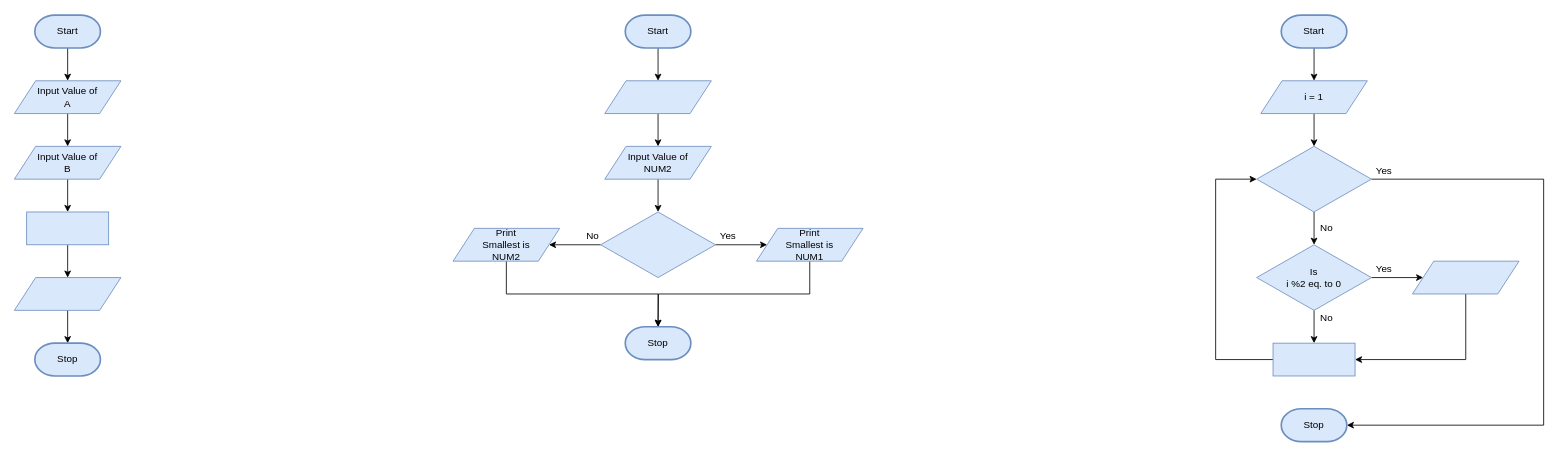
This 1565x456 diagram has some shape labels left out. The shapes that lost their labels are listed below. From the top down, each one's box as (x1, y1, x2, y2) in pixels, then its label:
(604, 80, 711, 114): Input Value of NUM1
(1256, 146, 1371, 212): Is i > 50
(26, 211, 109, 245): SUM = A + B
(600, 211, 715, 278): Is NUM1 < NUM2
(14, 277, 121, 310): Print SUM
(1412, 260, 1519, 294): Print i
(1272, 342, 1355, 376): i = i + 1
